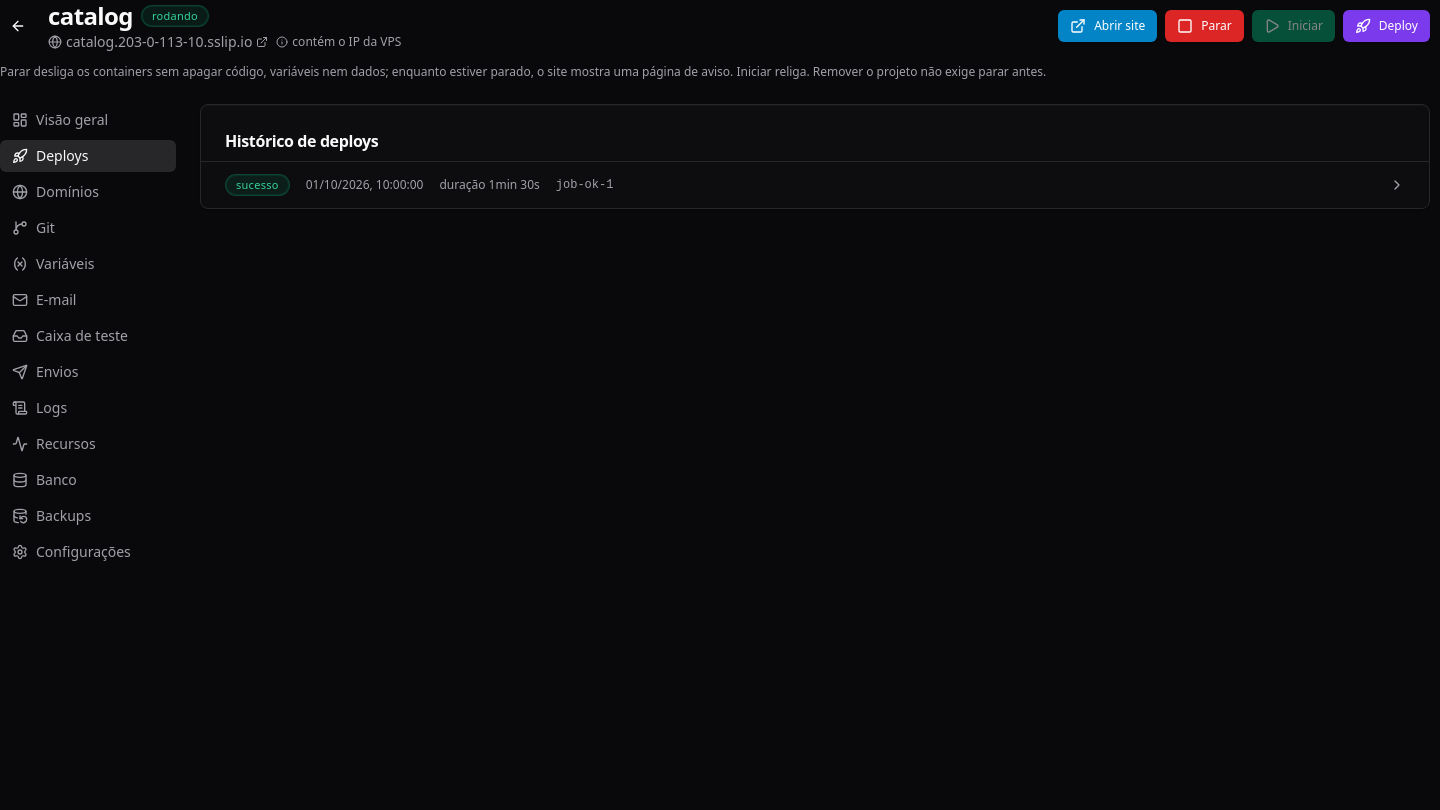
Test: ProjectDetailPage — histórico de deploys › lista sem o log em cima; clicar num deploy abre o detalhe com etapas e log
The image size is (1440, 810).
Click the button with test id "job-row-job-ok-1234": coordinates (257, 185) 201,162 -> 1429,208
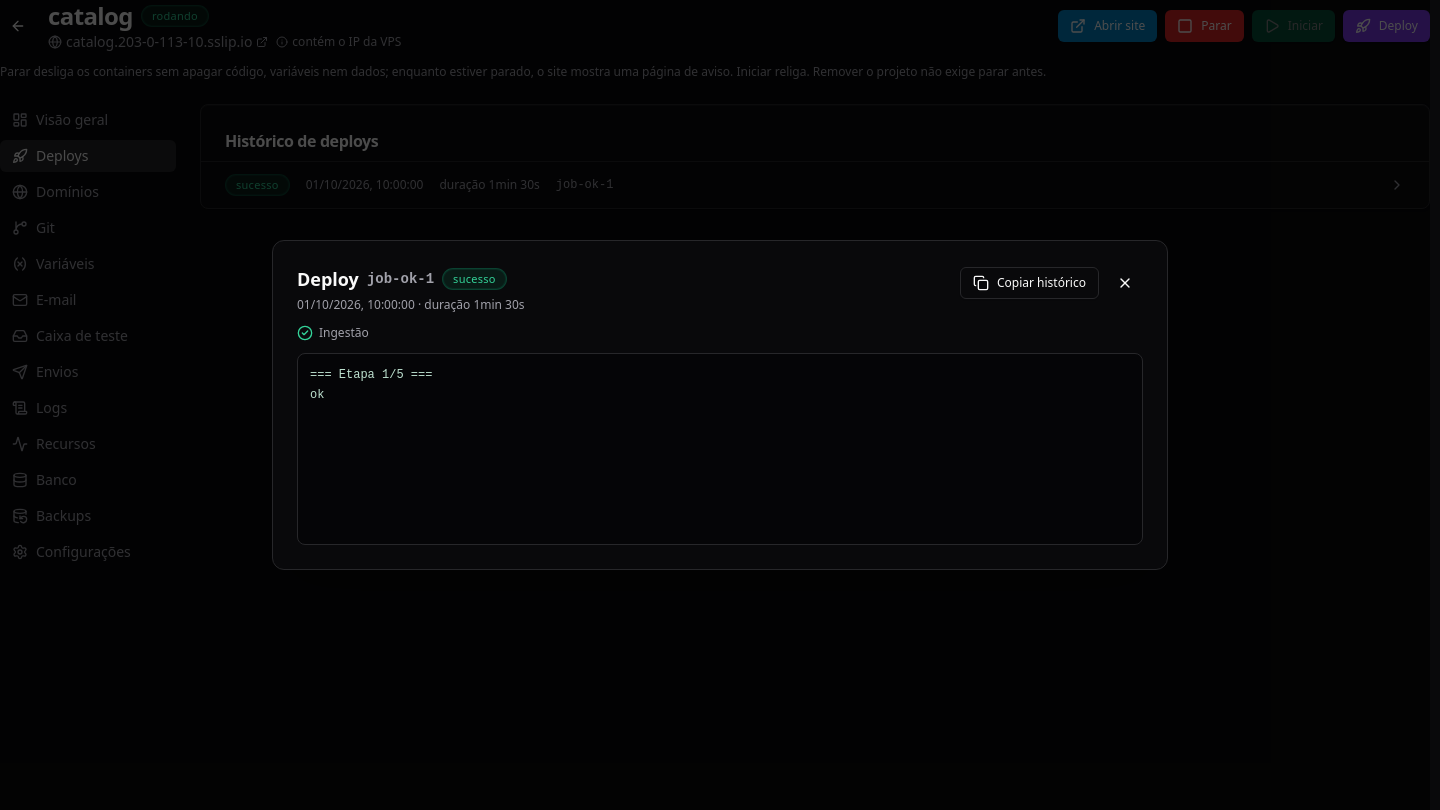
Expected: the dialog with test id "deploy-detail" shows "=== Etapa 1/5 ===", 310,368 -> 432,402
Click the button named "Fechar": coordinates (1125, 283) 1107,265 -> 1143,301
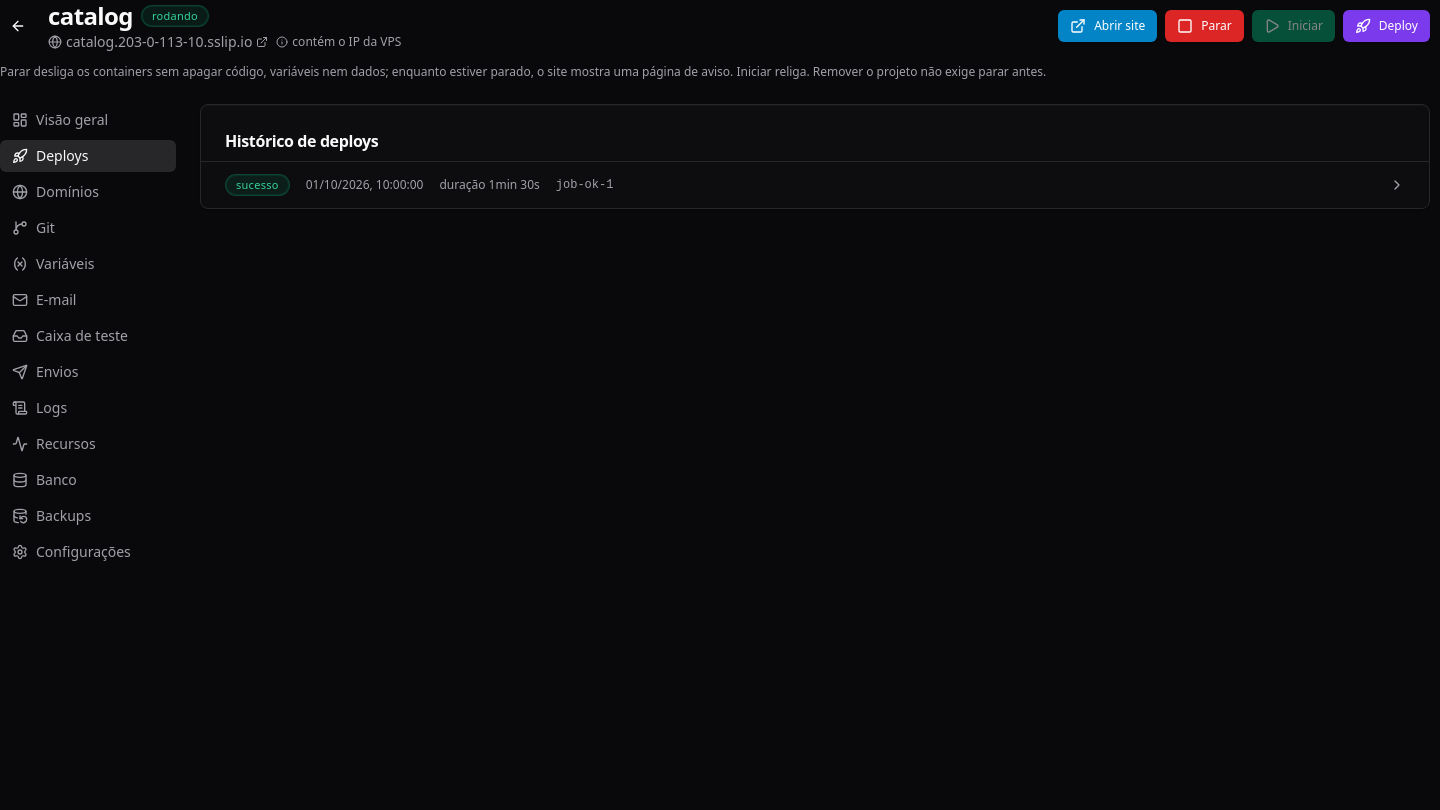
Expected: the dialog with test id "deploy-detail" is gone
